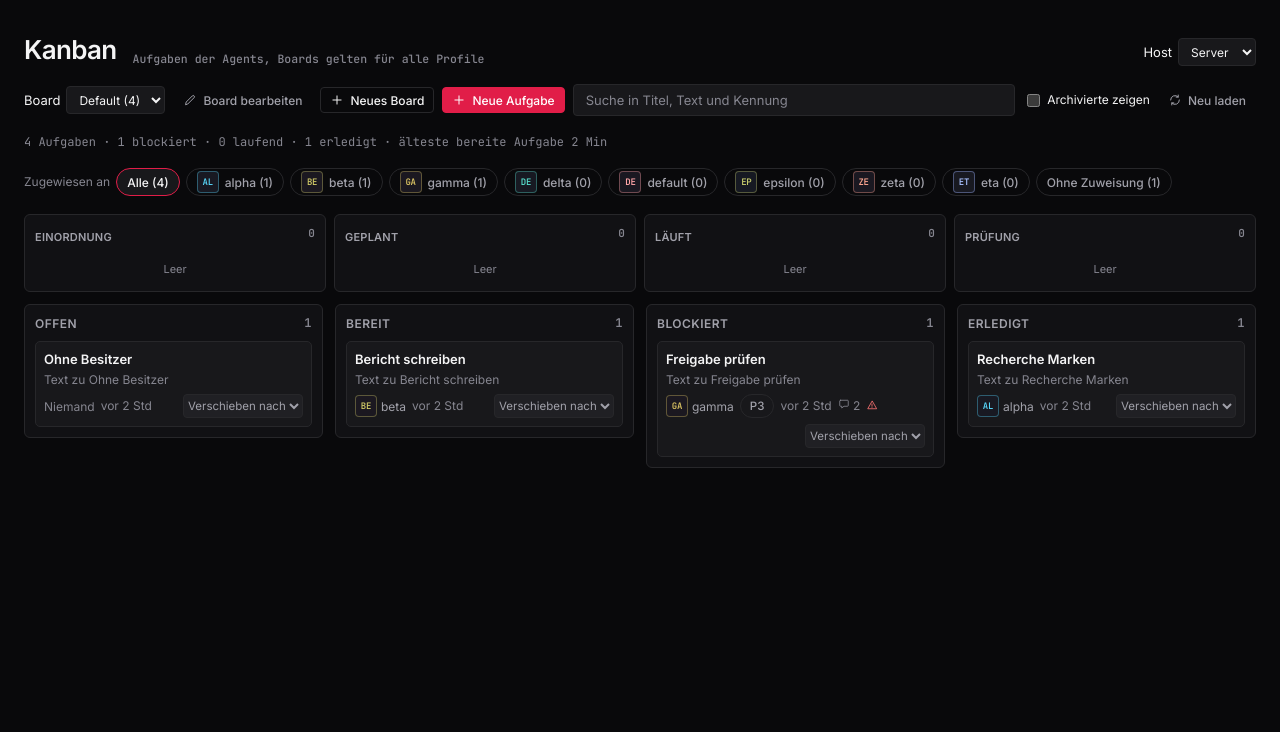
Test: Kanban Detail und Anlegen › sendet einen Kommentar, weist neu zu und lädt das Log nach
Expected: the text "Recherche Marken" is shown, [977,351,1095,367]
Step 1. Click the button with aria-label "Aufgabe öffnen: Freigabe prüfen" → (796,369), box [666,350,925,388]
(page scrolled)
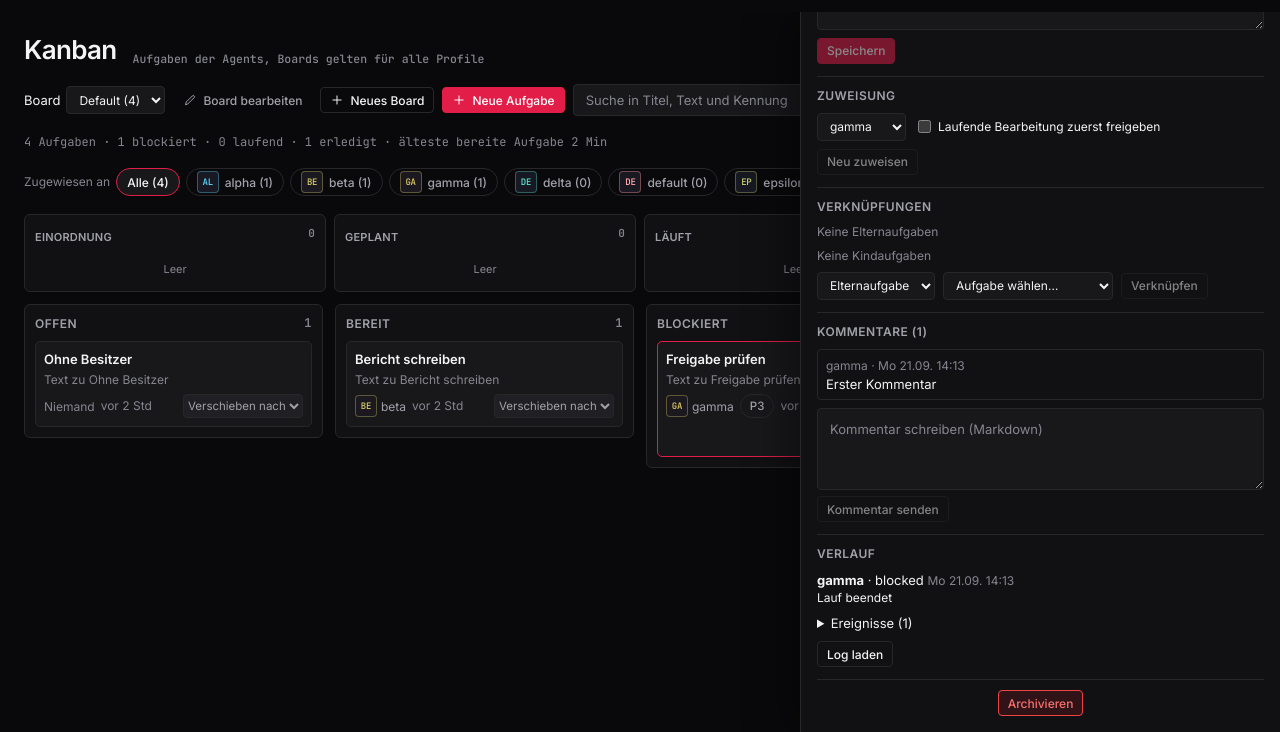
Result: the text "Erster Kommentar" is shown at [826,376,936,392]
Step 2. Type "Weiter geht es" into the text box named "Neuer Kommentar" → (1040,449), box [817,408,1264,490]
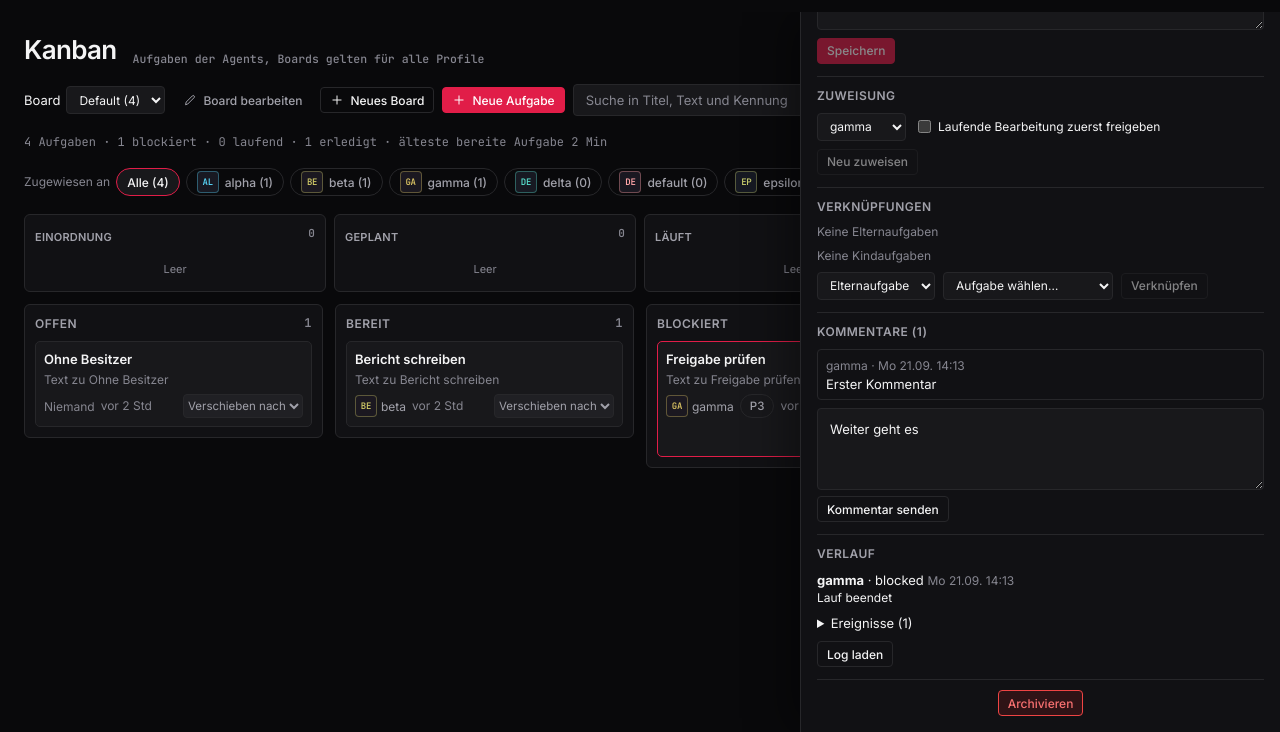
Step 3. Click the button "Kommentar senden" → (883,509), box [817,496,949,522]
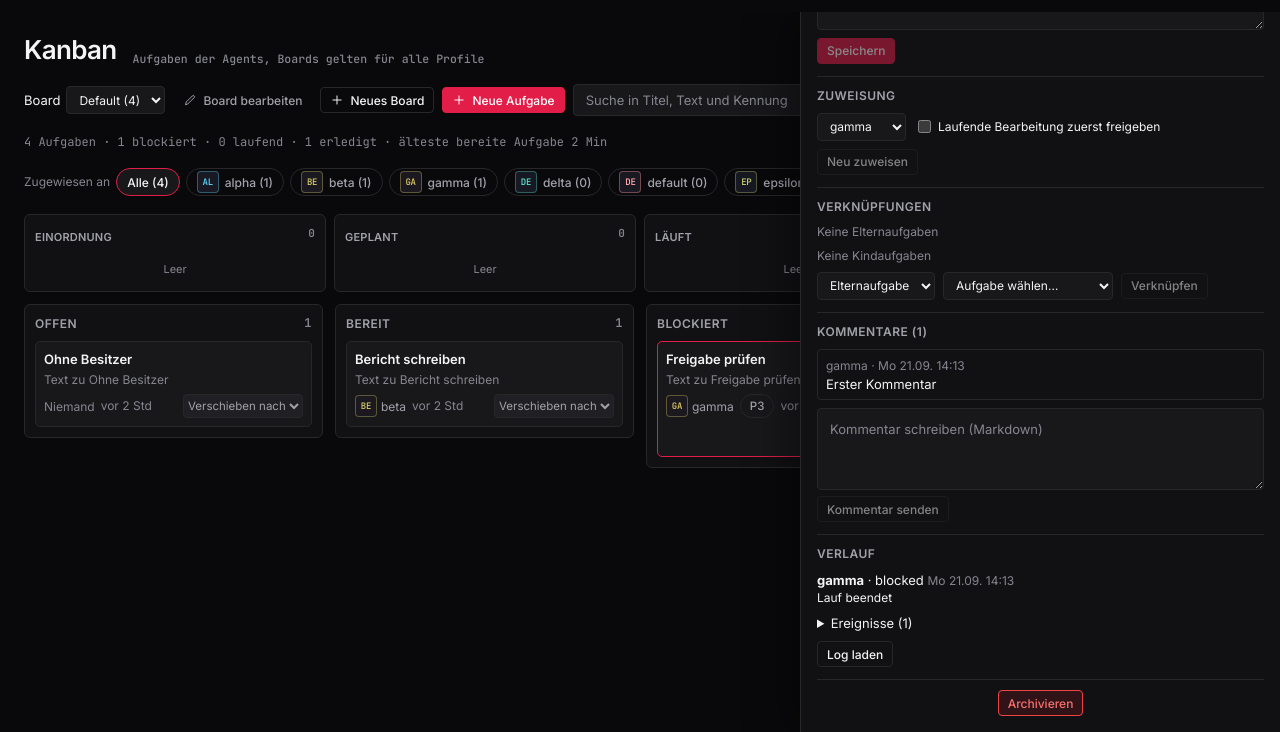
Result: the text box named "Neuer Kommentar" is empty at [817,408,1264,490]
Step 4. Select "beta" in the dropdown named "Zugewiesen an" → (862,127), box [817,113,906,141]
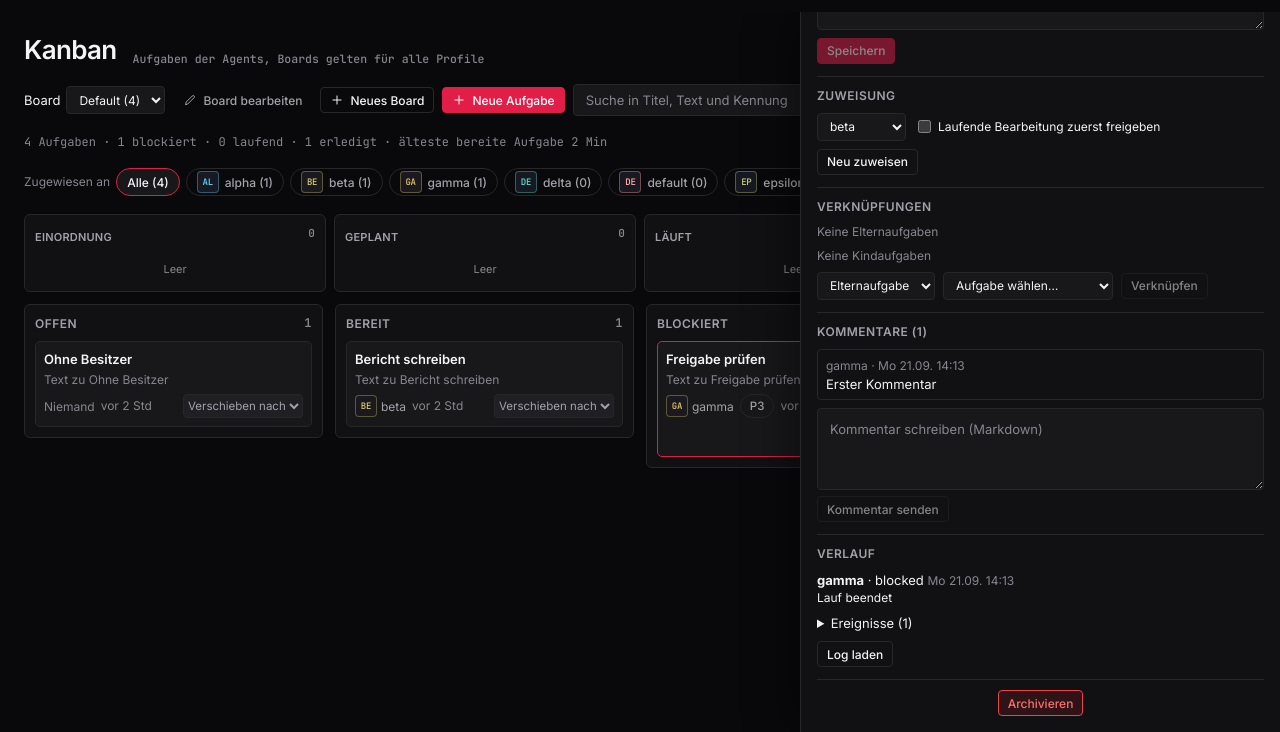
Step 5. Click the button "Neu zuweisen" → (868,162), box [817,149,918,175]
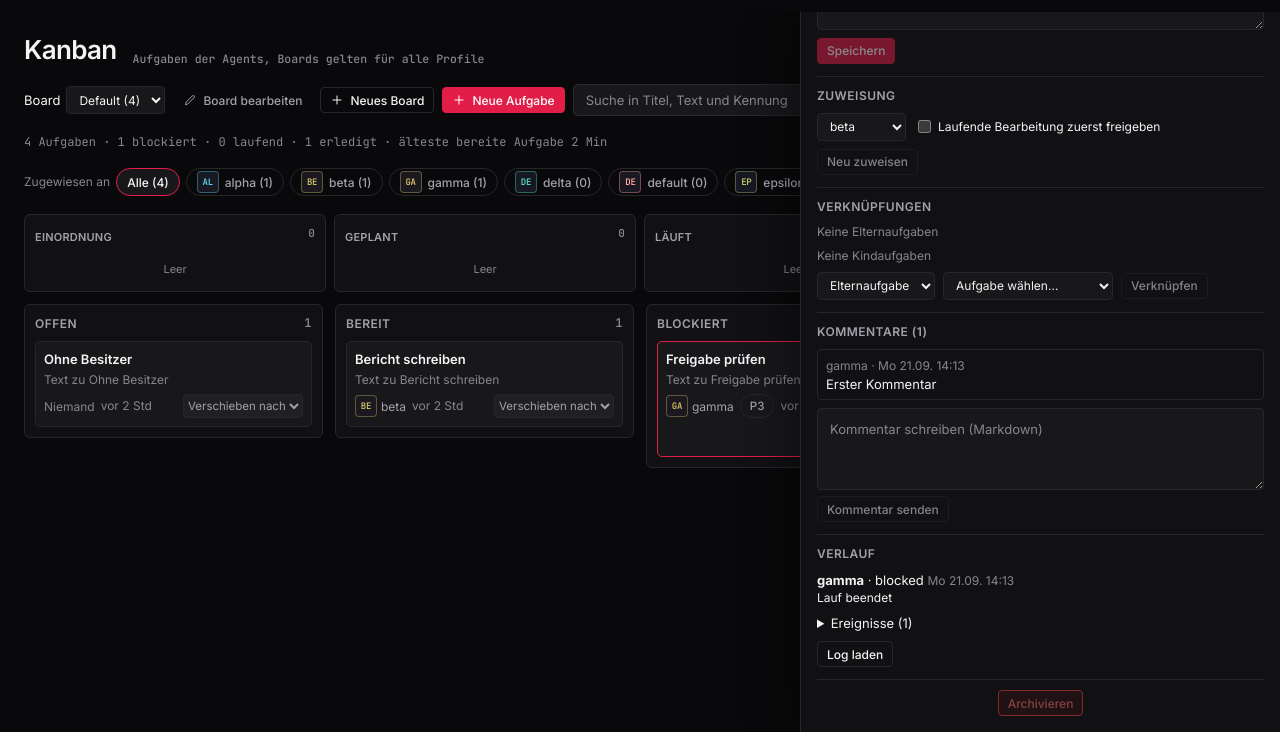
Step 6. Click the button "Log laden" → (855,654), box [817,641,893,667]
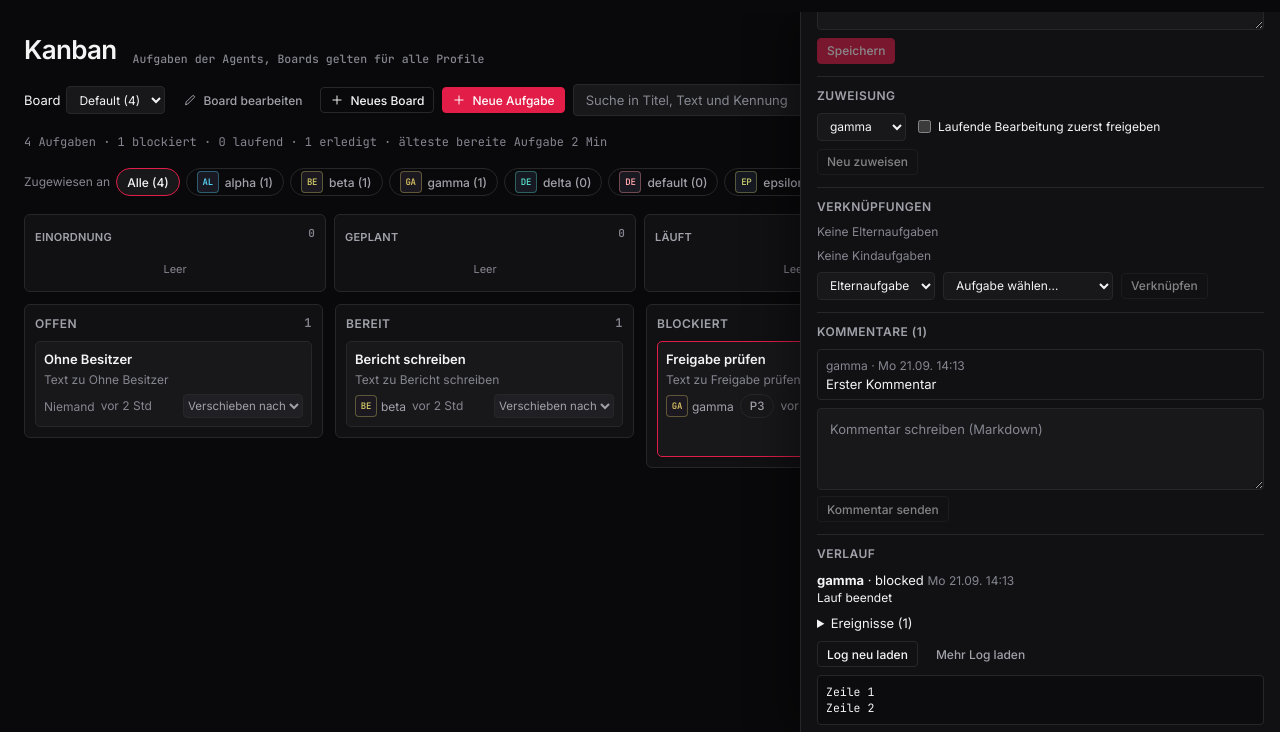
Result: the text named "Log" shows "Zeile 1" at [826,684,874,715]
Result: the button "Mehr Log laden" is shown at [926,641,1035,667]
